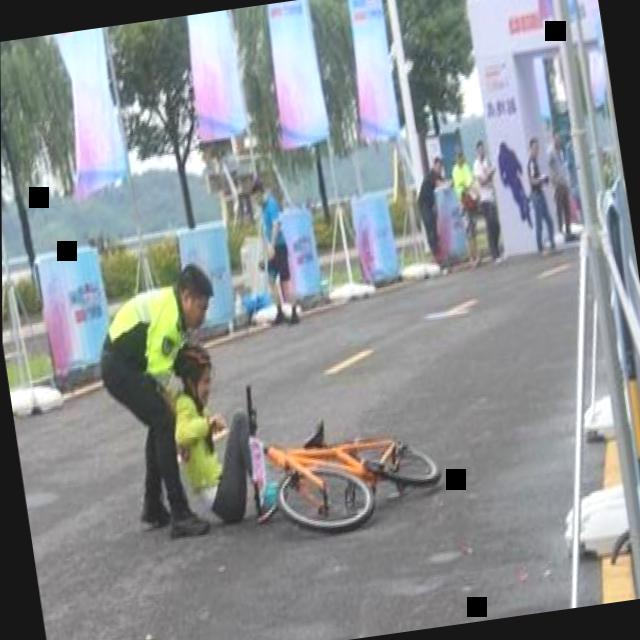Fall-Detected: (157, 324, 280, 528)
